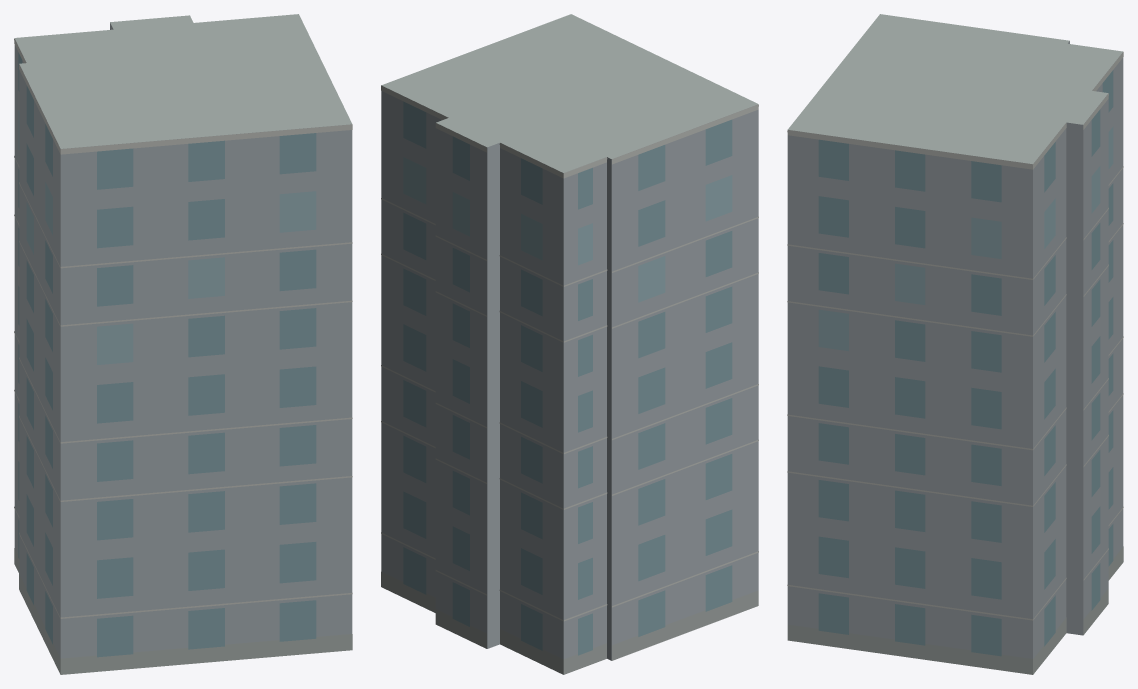
Rendered from survey-upis-32536595.glb.
The picture shows the model from 3 angles, left to right: view 1: azimuth 30°, elevation 25°; view 2: azimuth 150°, elevation 25°; view 3: azimuth 270°, elevation 25°; orthographic projection. The views are drawn at different scales.
Parts seen in each view (by area): view 1: survey-upis-32536595.tmp; view 2: survey-upis-32536595.tmp; view 3: survey-upis-32536595.tmp.
Part boxes in pixels (x1,y1,x2,y2): survey-upis-32536595.tmp: [14, 14, 352, 674]; survey-upis-32536595.tmp: [381, 14, 758, 674]; survey-upis-32536595.tmp: [787, 14, 1123, 674].
Size of the model in its own units: 14.4 by 22.79 by 13.61.
